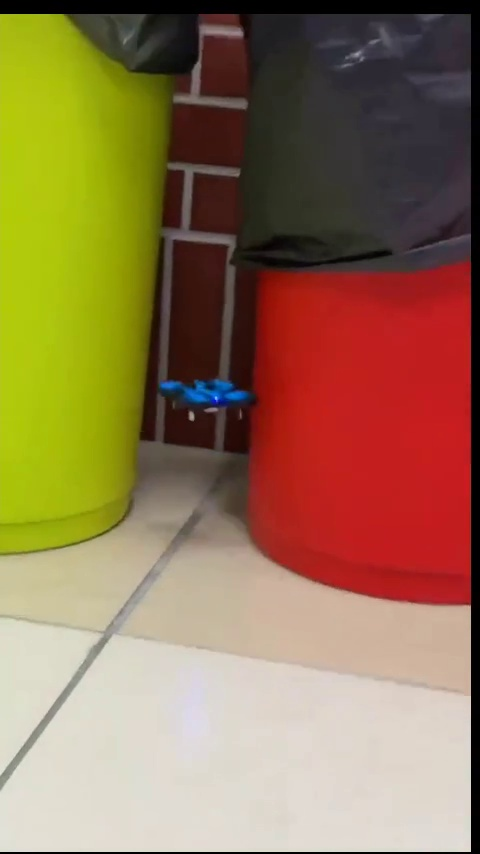drone: (160, 373, 259, 417)
